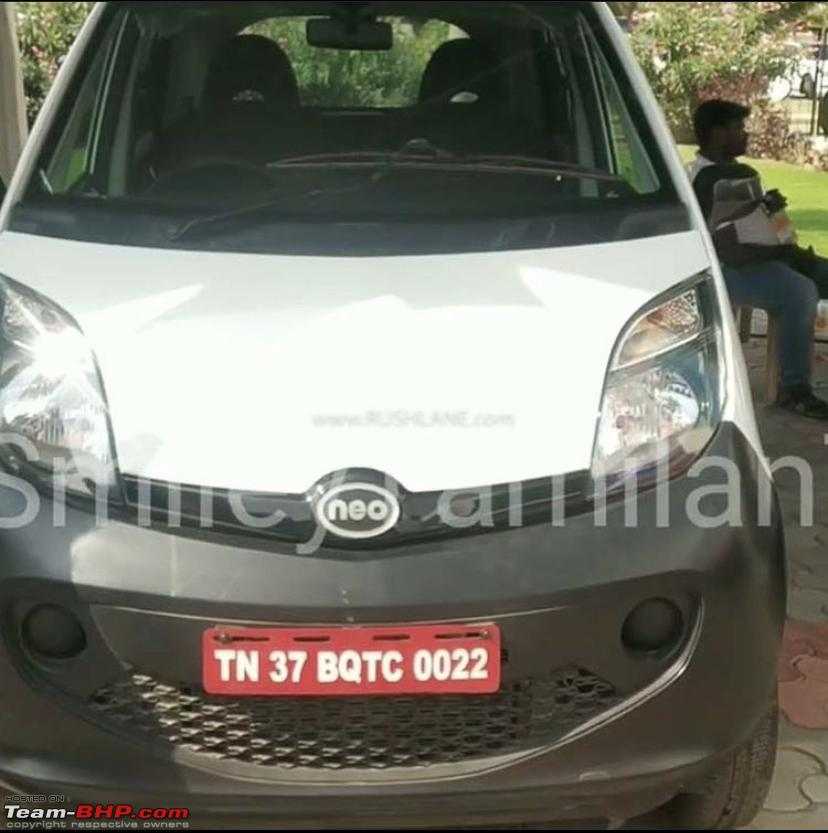Nano: (1, 2, 782, 821)
